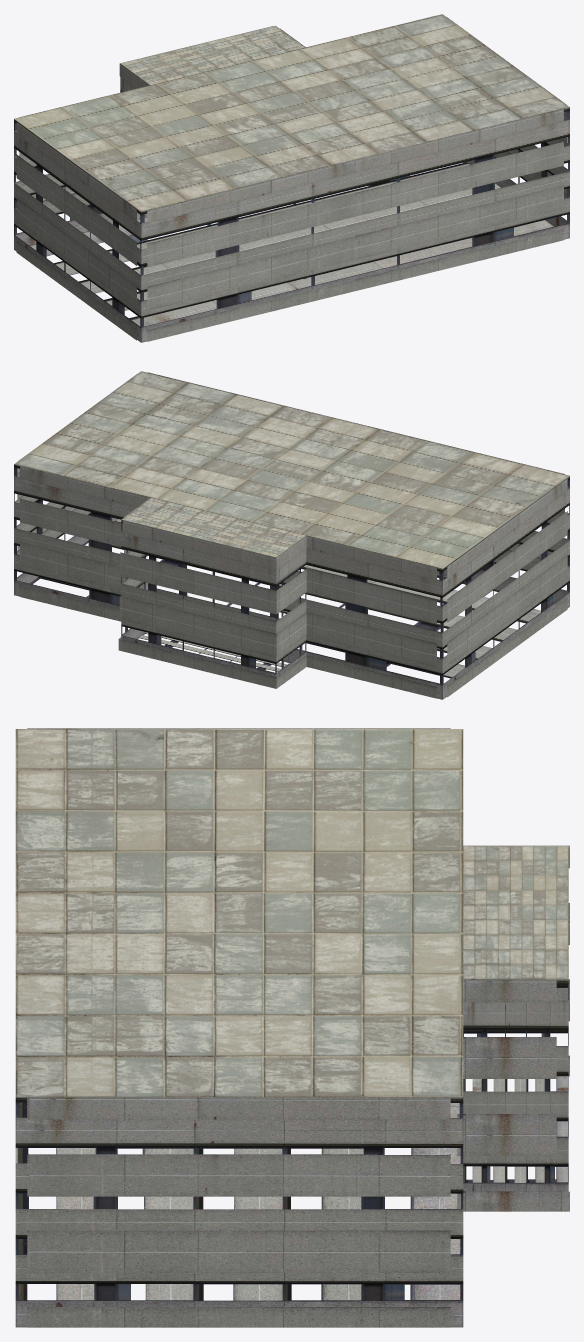
Rendered from BagSS05mid_100.fbx.
3 views of the same model, one above another, from view 1: azimuth 30°, elevation 25°; view 2: azimuth 150°, elevation 25°; view 3: azimuth 270°, elevation 25° (orthographic). The views are drawn at different scales.
Parts seen in each view (by area): view 1: midRoof100, midMain100, midBoxA100; view 2: midRoof100, midMain100, midBoxA100, midBoxB100; view 3: midRoof100, midMain100, midBoxA100, midBoxB100.
Part boxes in pixels (bbox=[...]): midRoof100: bbox=[14, 14, 569, 211]; midMain100: bbox=[16, 15, 566, 341]; midBoxA100: bbox=[14, 107, 569, 342]; midRoof100: bbox=[14, 371, 569, 568]; midMain100: bbox=[17, 372, 567, 698]; midBoxA100: bbox=[14, 464, 569, 699]; midBoxB100: bbox=[121, 520, 306, 677]; midRoof100: bbox=[15, 729, 568, 1096]; midMain100: bbox=[27, 728, 569, 1327]; midBoxA100: bbox=[15, 1097, 463, 1327]; midBoxB100: bbox=[463, 979, 568, 1191].
Size of the model in its own units: 42.25 by 12.3 by 26.9.
